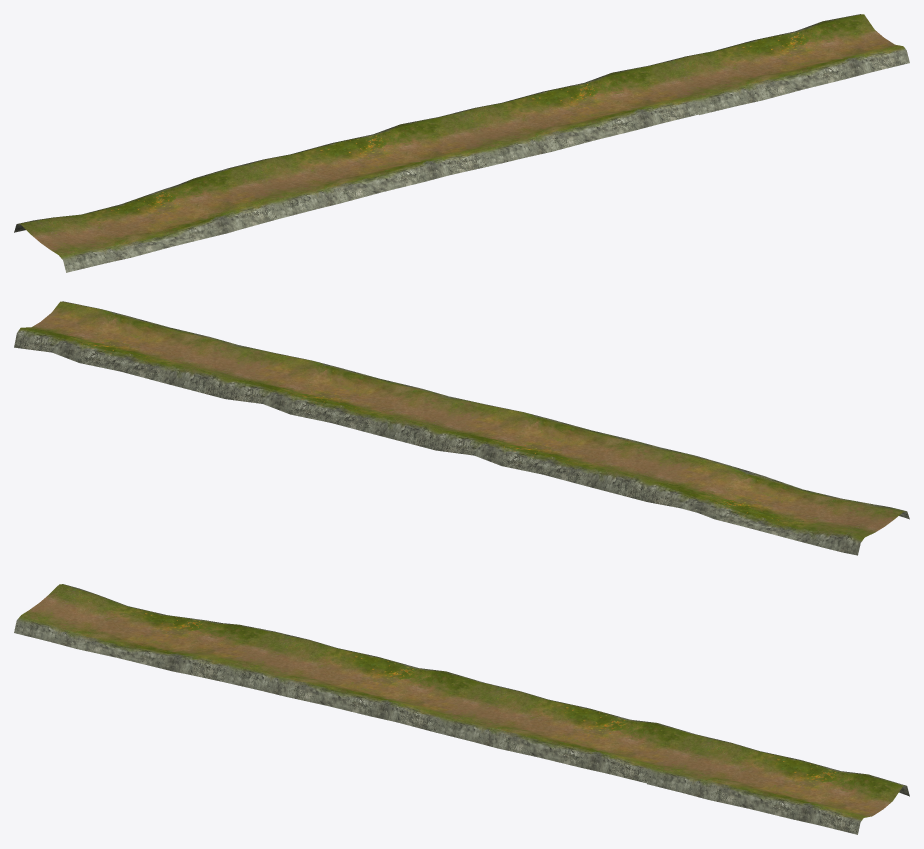
The model's file is ground_mobile4.FBX.
3 views of the same model, one above another, from view 1: azimuth 30°, elevation 25°; view 2: azimuth 150°, elevation 25°; view 3: azimuth 330°, elevation 25° (orthographic).
Parts seen in each view (by area): view 1: Plane024; view 2: Plane024; view 3: Plane024.
Part boxes in pixels (<box>): Plane024: <box>14,14,909,272</box>; Plane024: <box>14,301,909,555</box>; Plane024: <box>14,584,909,834</box>.
Size of the model in its own units: 524 by 12.34 by 58.4.
